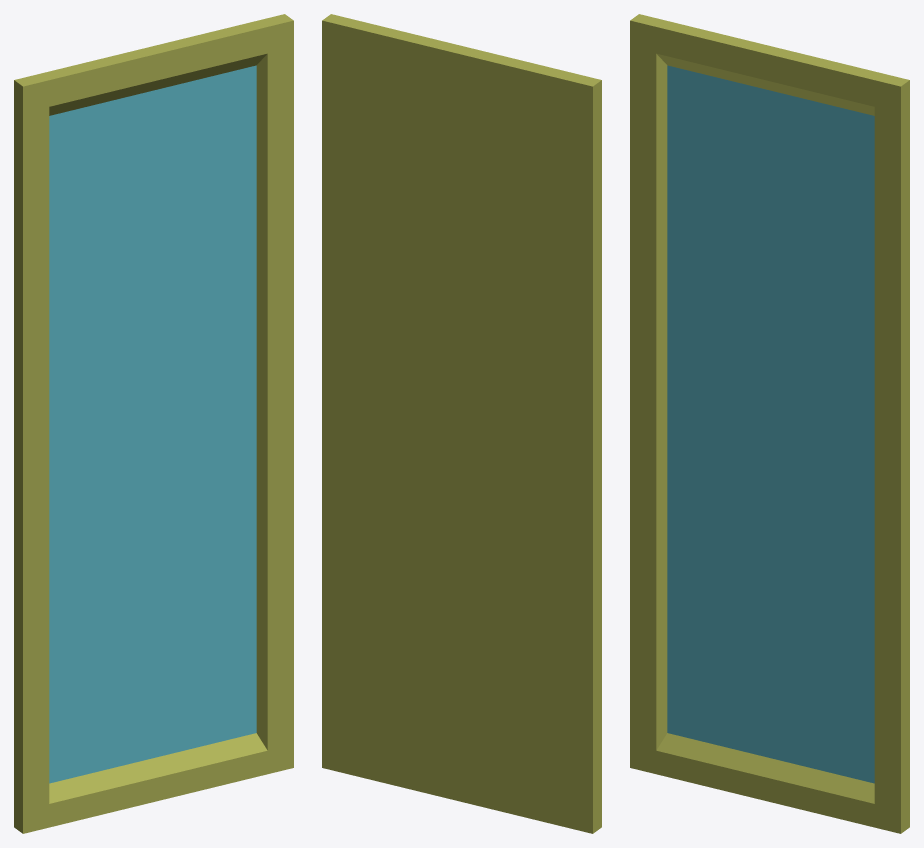
File: Mirror_Material.fbx
3 renders of one model, left to right at view 1: azimuth 30°, elevation 25°; view 2: azimuth 150°, elevation 25°; view 3: azimuth 330°, elevation 25°, orthographic.
Visible parts, largest first — view 1: Mirror; view 2: Mirror; view 3: Mirror.
Boxes of the visible parts, <box> form: Mirror: <box>14,14,293,833</box>; Mirror: <box>322,14,601,833</box>; Mirror: <box>630,14,909,833</box>.
Size of the model in its own units: 0.5082 by 1.34 by 0.0291.
